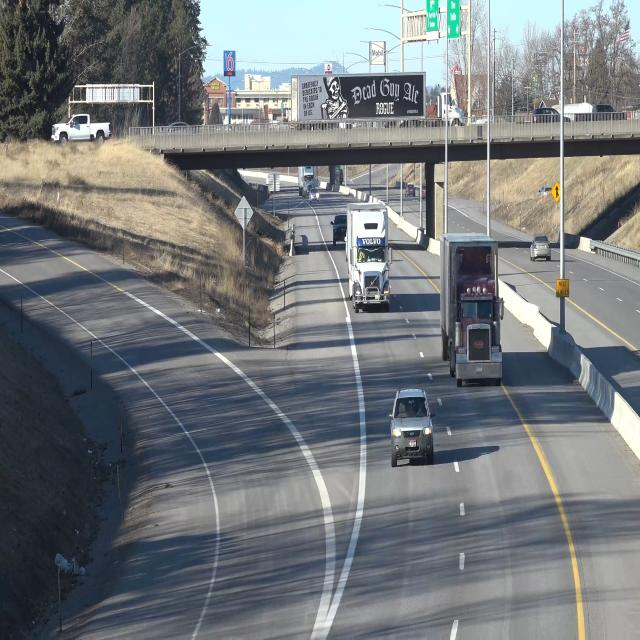Car: (440, 233, 504, 385), (345, 203, 394, 310), (389, 385, 436, 467), (531, 230, 553, 264)
